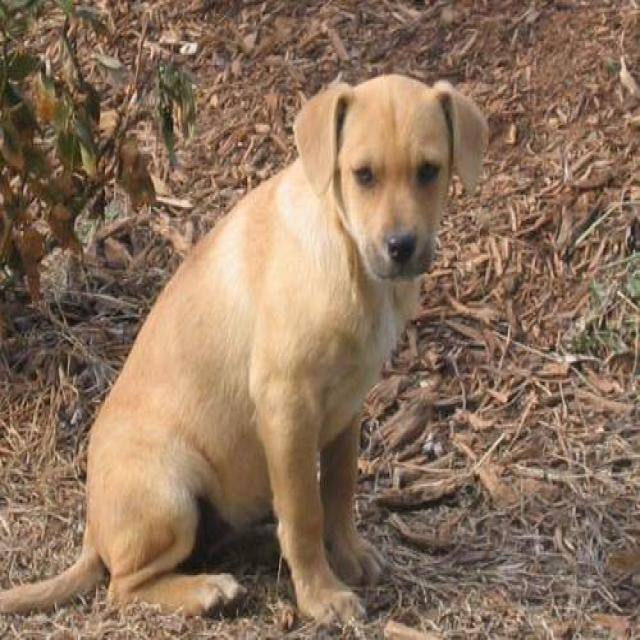dog: (0, 70, 489, 632)
